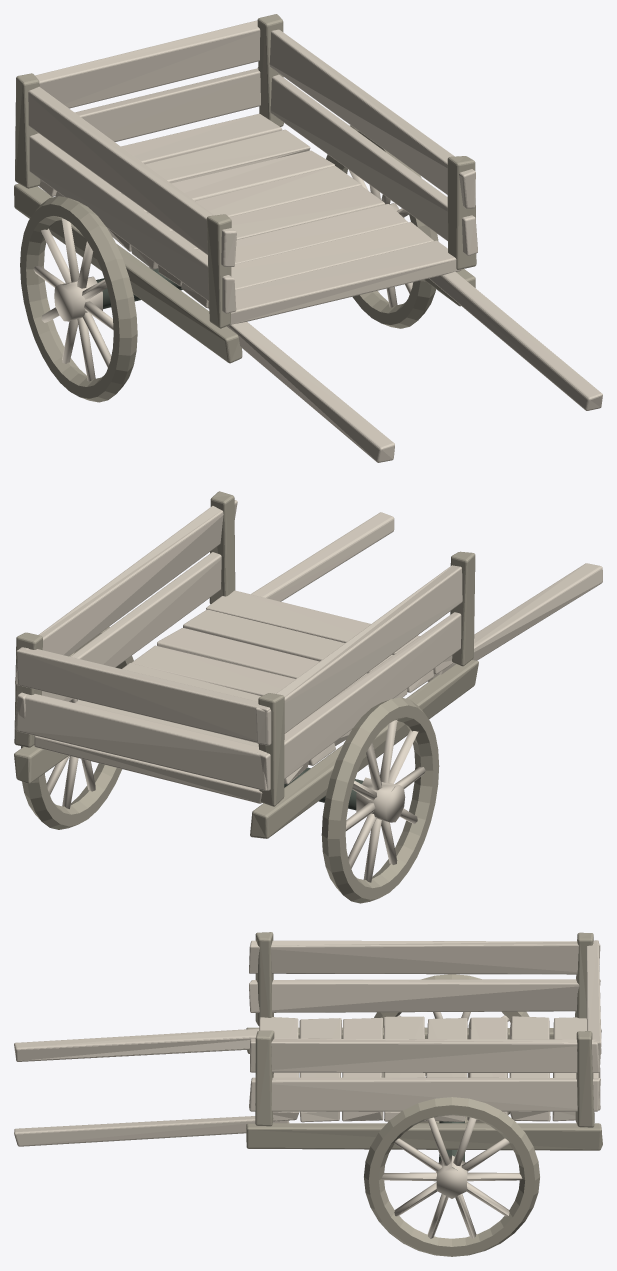
Rendered from SM_WLA_Cart_B.fbx.
3 views of the same model, one above another, from view 1: azimuth 30°, elevation 25°; view 2: azimuth 150°, elevation 25°; view 3: azimuth 270°, elevation 25° (orthographic). The views are drawn at different scales.
Visible parts, largest first — view 1: SM_WLA_Cart_B; view 2: SM_WLA_Cart_B; view 3: SM_WLA_Cart_B.
Boxes of the visible parts, <box> form: SM_WLA_Cart_B: <box>14,14,602,462</box>; SM_WLA_Cart_B: <box>14,491,602,903</box>; SM_WLA_Cart_B: <box>14,932,602,1256</box>.
Size of what is drawn, in the model's own units: 3.24 by 1.76 by 1.28.
